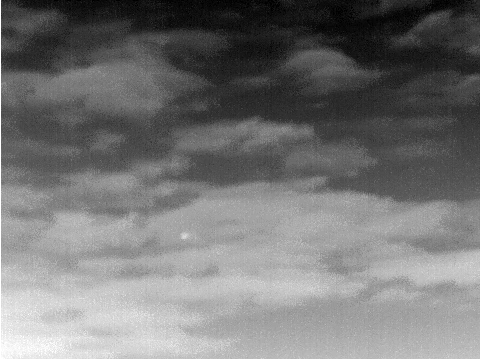dim target: (178, 229, 189, 241)
